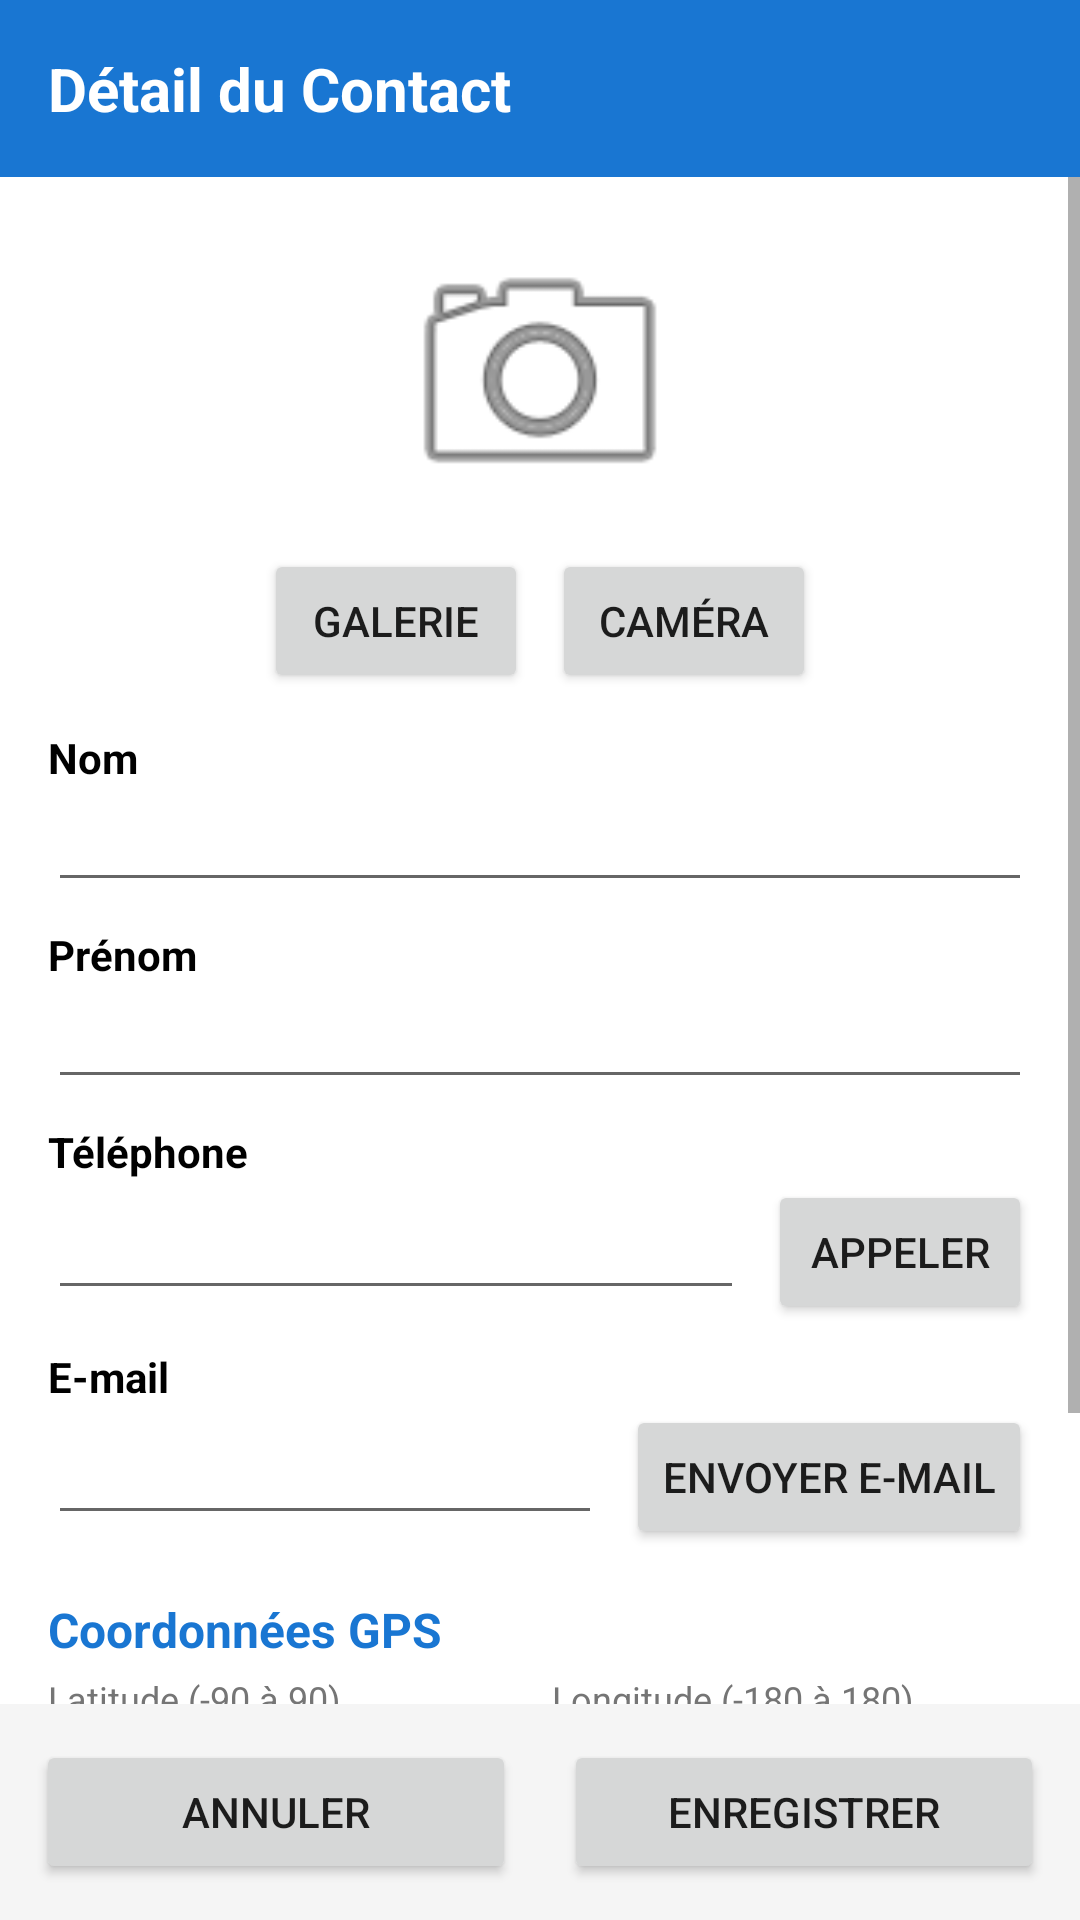

Where icons sit on this 1080×1920 app screen, as (x1=x1, y1=y1, x2=x2, y2=y2):
camera: (x1=424, y1=278, x2=656, y2=463)
